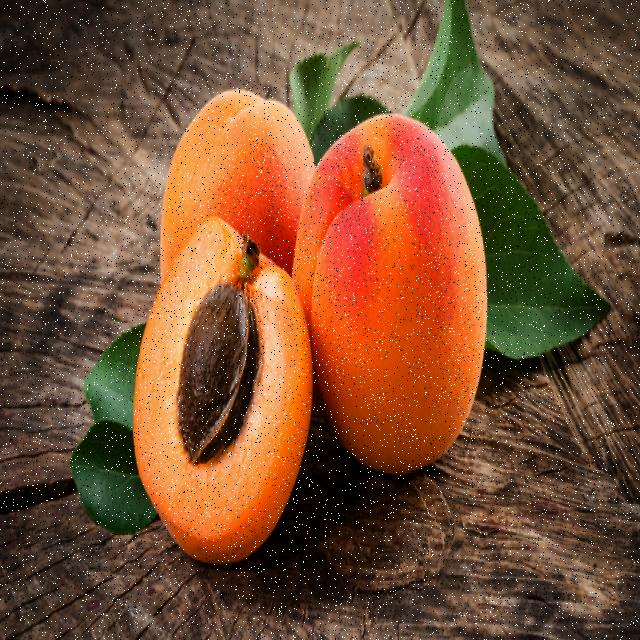kayisi: (292, 114, 488, 472), (133, 222, 311, 560), (159, 87, 314, 281)
yaprak: (454, 148, 612, 355), (402, 0, 506, 165), (82, 324, 140, 429)
